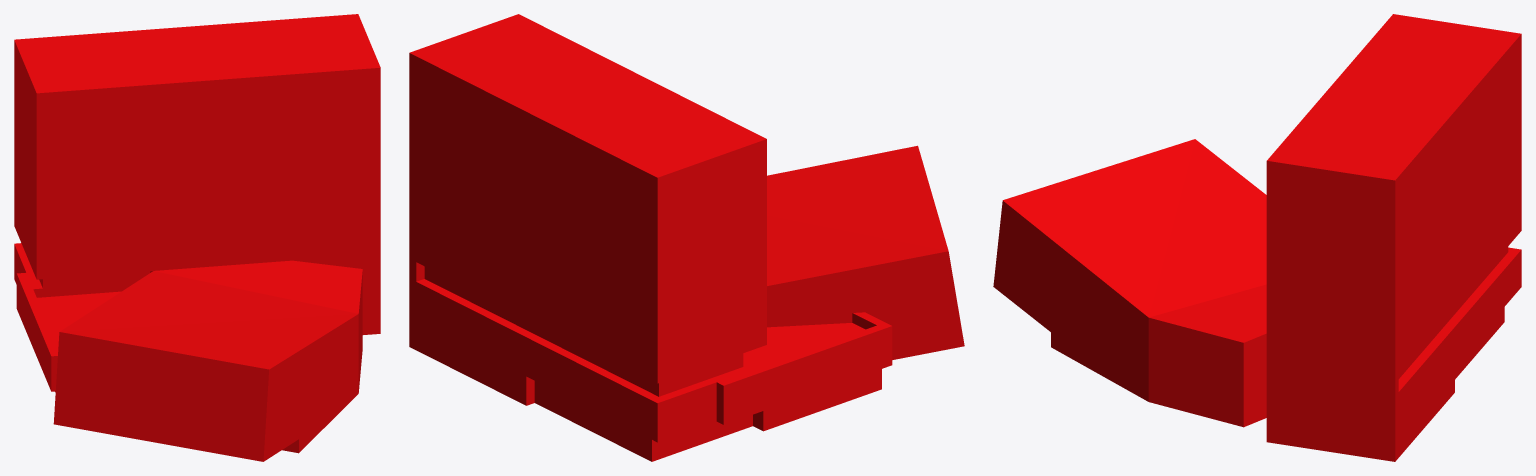
File: tauro2.dae
3 renders of one model, left to right at view 1: azimuth 30°, elevation 25°; view 2: azimuth 150°, elevation 25°; view 3: azimuth 270°, elevation 25°, orthographic. The views are drawn at different scales.
Parts seen in each view (by area): view 1: ID3; view 2: ID3; view 3: ID3.
Boxes of the visible parts, <box> form: ID3: <box>14,14,380,461</box>; ID3: <box>409,14,964,461</box>; ID3: <box>993,14,1521,461</box>.
Size of the model in its own units: 168 by 106 by 180.
